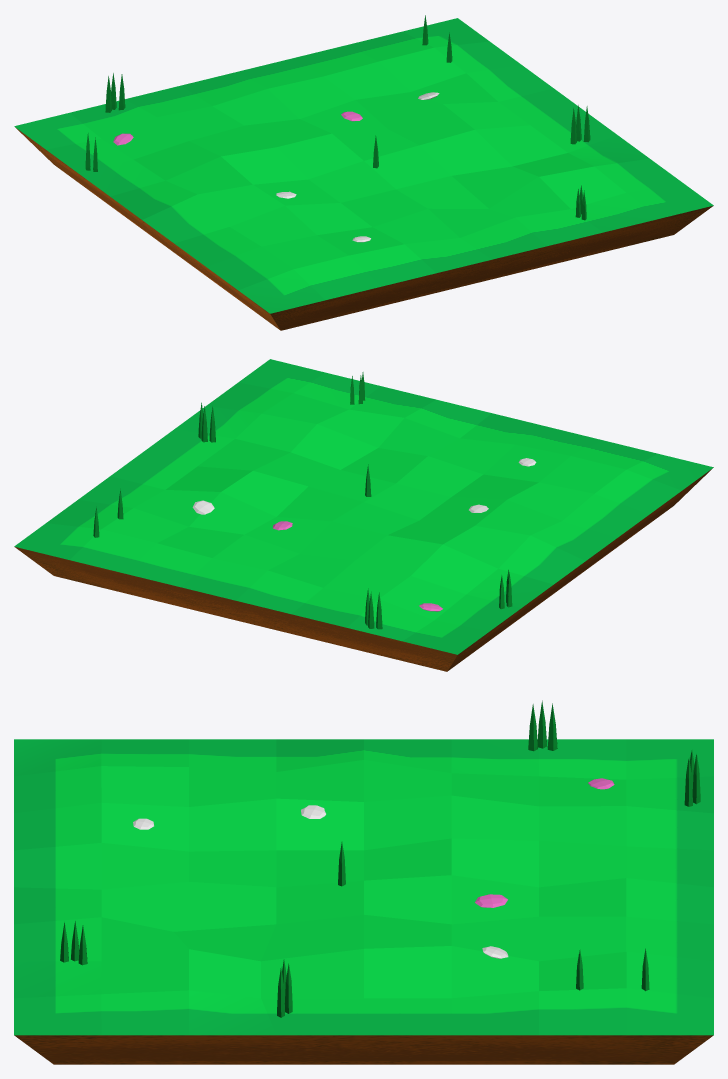
Rendered from grassflowerpinkwhite2.fbx.
3 renders of one model, top to bottom at view 1: azimuth 30°, elevation 25°; view 2: azimuth 150°, elevation 25°; view 3: azimuth 270°, elevation 25°, orthographic. The views are drawn at different scales.
Visible parts, largest first — view 1: pCube1; view 2: pCube1; view 3: pCube1.
Boxes of the visible parts, box(x1,y1,x2,y2) form: pCube1: box(14, 18, 713, 330); pCube1: box(14, 359, 713, 671); pCube1: box(14, 739, 713, 1064).
Bounding box in the file's own units: 97.93 × 14.79 × 97.93.
Materials: 5 (2 with a texture image).
